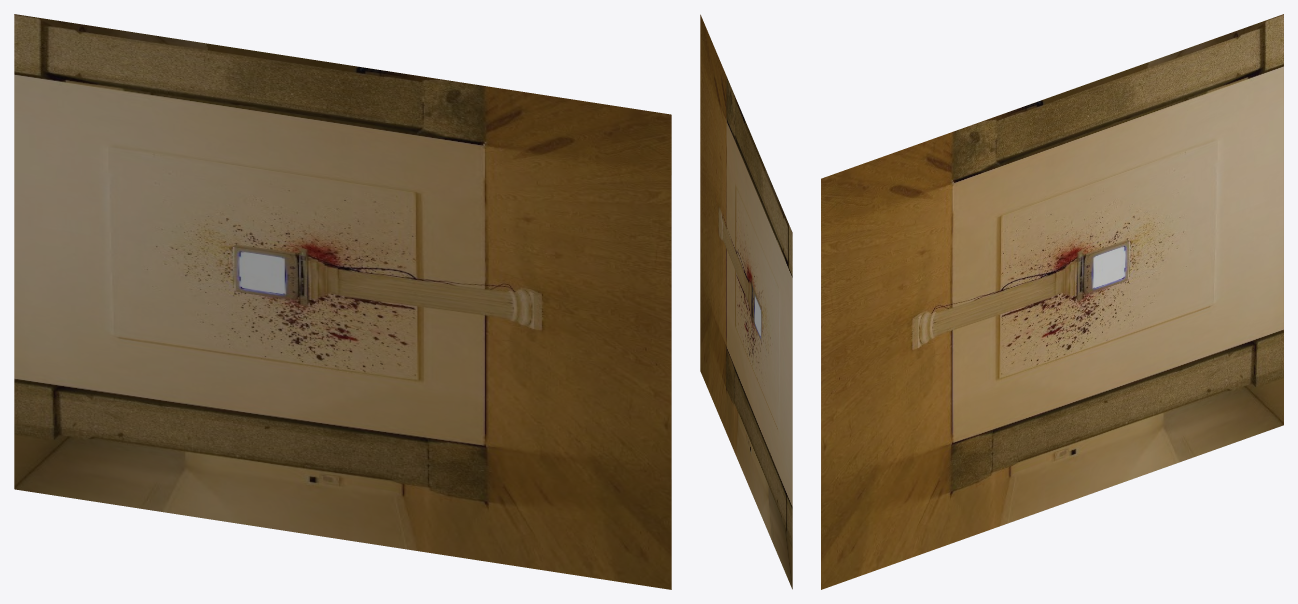
3 renders of one model, left to right at view 1: azimuth 30°, elevation 25°; view 2: azimuth 150°, elevation 25°; view 3: azimuth 270°, elevation 25°, orthographic. The views are drawn at different scales.
Parts seen in each view (by area): view 1: Plane.019; view 2: Plane.019; view 3: Plane.019.
Boxes of the visible parts, x1,y1,x2,y2 form: Plane.019: (14,14,671,589); Plane.019: (700,14,792,589); Plane.019: (821,14,1283,589).
Bounding box in the file's own units: 2.58 × 3 × 3.06.
Materials: 1 (1 with a texture image).
